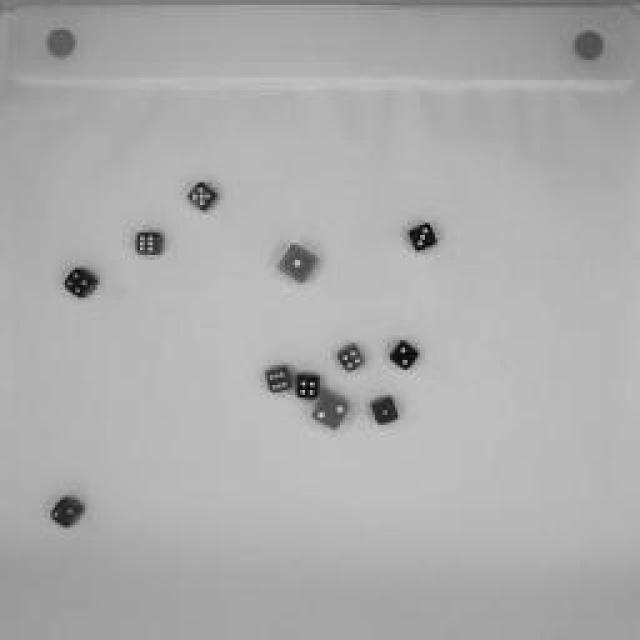dice_1: (274, 242, 321, 286), (368, 392, 402, 428)
dice_2: (308, 390, 352, 432), (386, 336, 422, 374), (47, 494, 85, 528)
dice_3: (402, 222, 442, 256)
dice_4: (60, 264, 100, 304), (335, 343, 370, 375)
dice_5: (182, 179, 220, 216), (292, 368, 322, 404)
dice_6: (263, 364, 295, 396), (134, 230, 166, 258)
